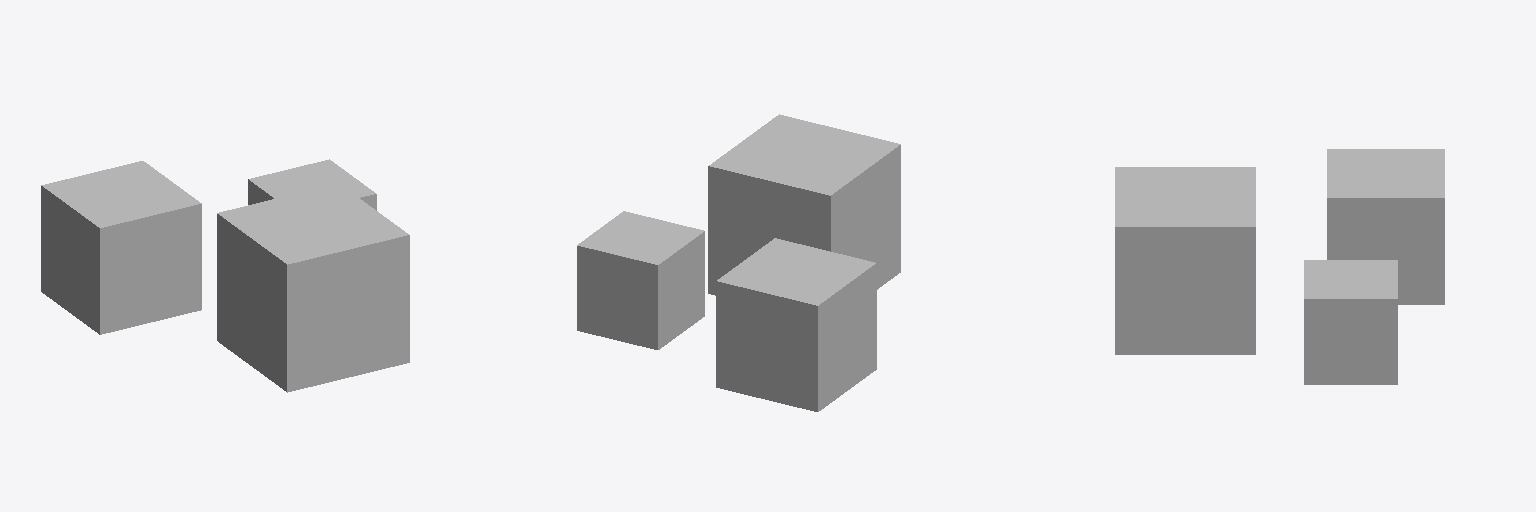
File: thelimit_lucinus_2.obj
The picture shows the model from 3 angles: view 1: azimuth 30°, elevation 25°; view 2: azimuth 150°, elevation 25°; view 3: azimuth 270°, elevation 25°; orthographic projection.
Visible parts, largest first — view 1: cube; view 2: cube; view 3: cube.
Boxes of the visible parts, <box> form: cube: <box>41,159,409,392</box>; cube: <box>577,114,900,411</box>; cube: <box>1115,149,1444,384</box>.
Bounding box in the file's own units: 0.8125 × 0.375 × 0.875.